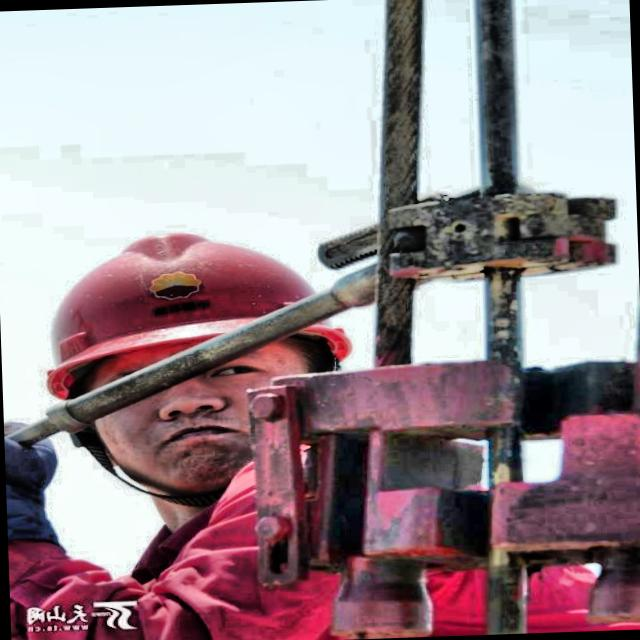helmet: (10, 200, 392, 494)
